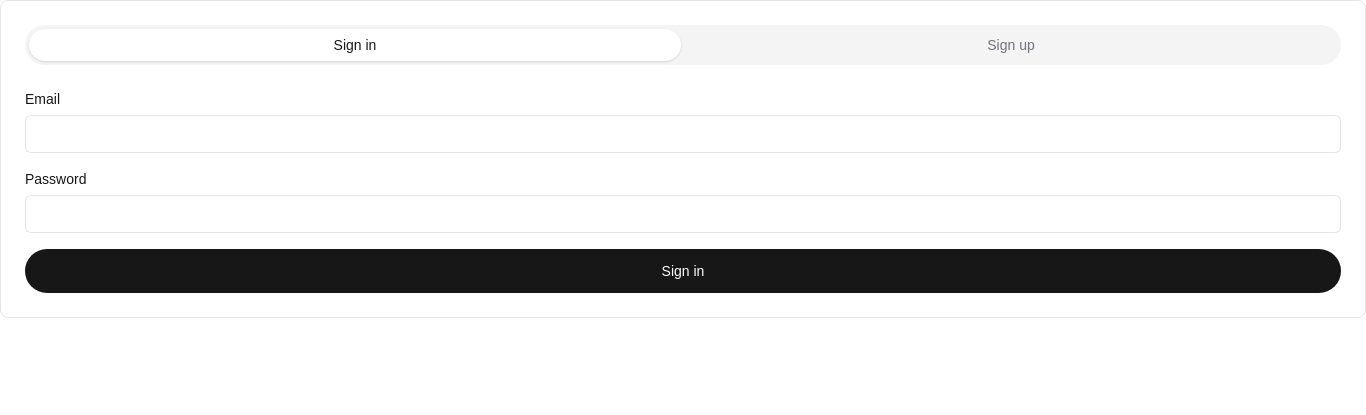
Test: AuthForms › shows the sign-in form by default and toggles to sign-up
The width and height of the screenshot is (1366, 415).
Expected: the field labelled "Email" is shown, [25, 115, 1341, 153]
Expected: the password field labelled "Password" is shown, [25, 195, 1341, 233]
Note: Toggle to sign up: a Name field appears.
What coordinates should you click on to do the following:
click the button "Sign up"
I would click on:
 (1011, 45)
Its box is [685, 29, 1337, 61].
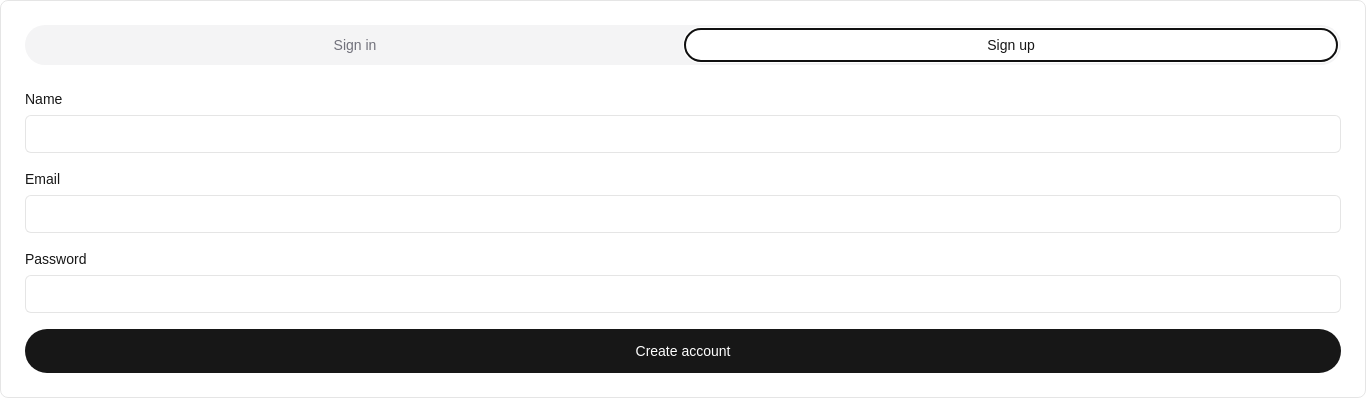
Expected: the field labelled "Name" is shown, [25, 115, 1341, 153]
Now the button "Create account" is shown, box [25, 329, 1341, 373]
